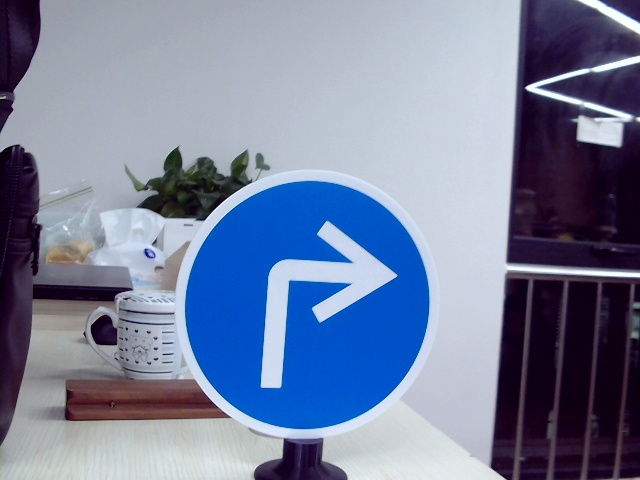turn_right: (246, 221, 396, 388)
